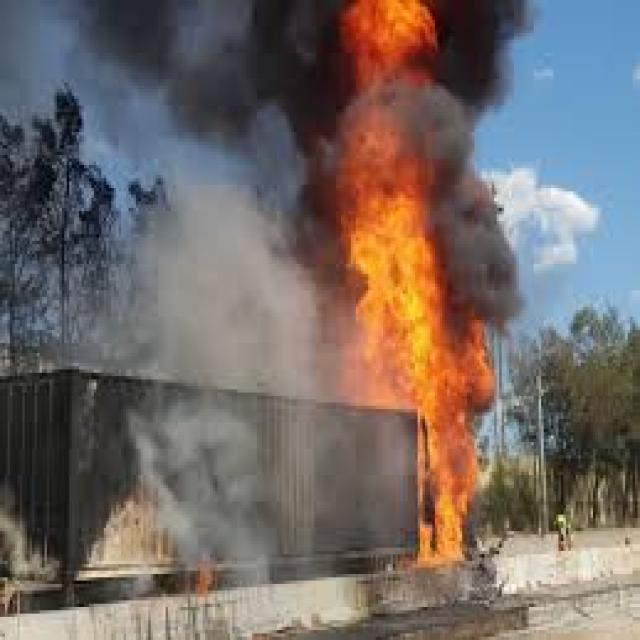Fire: (354, 156, 442, 390)
